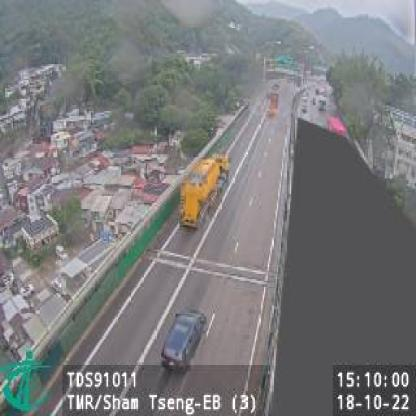Car: (158, 308, 208, 373)
Truck: (178, 152, 230, 230)
